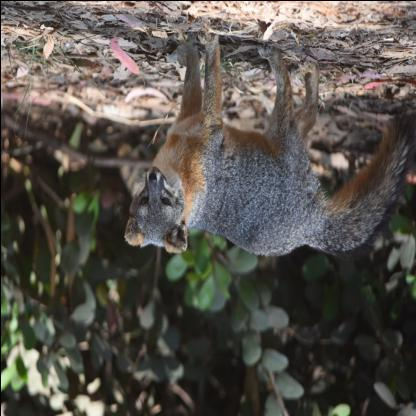zorro: (118, 27, 416, 265)
